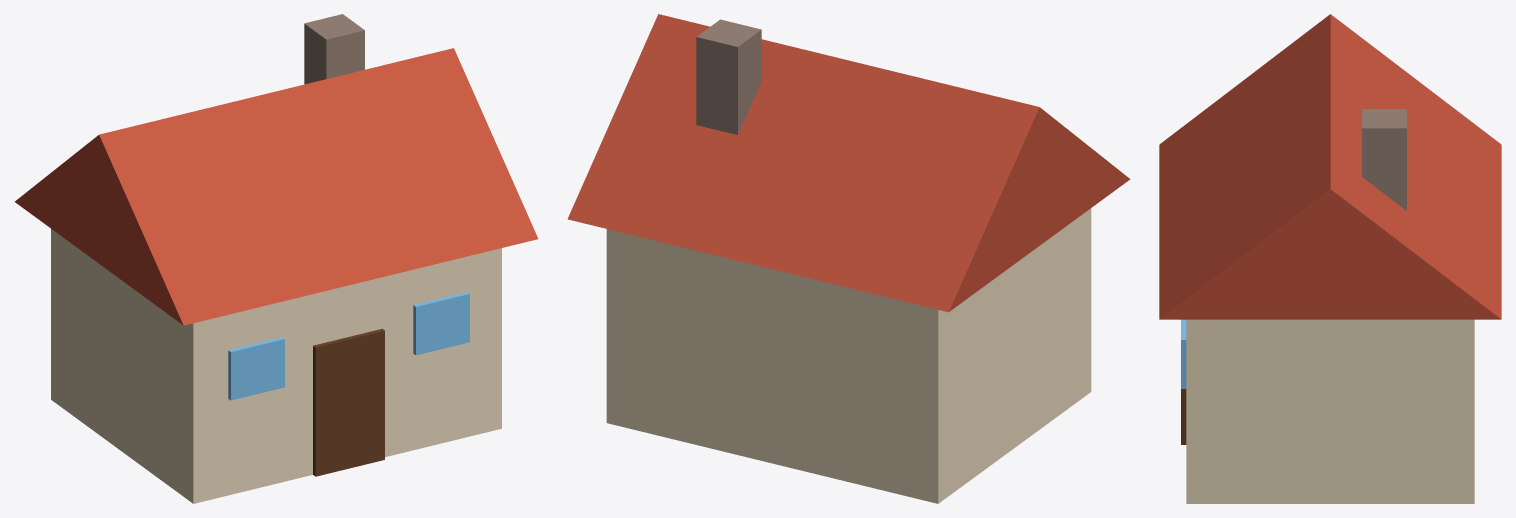
File: casa.glb
The picture shows the model from 3 angles, left to right: view 1: azimuth 30°, elevation 25°; view 2: azimuth 150°, elevation 25°; view 3: azimuth 270°, elevation 25°; orthographic projection. The views are drawn at different scales.
Visible parts, largest first — view 1: corpo; view 2: corpo; view 3: corpo.
Part boxes in pixels (left/top/right/bottom): corpo: left=14, top=14, right=538, bottom=503; corpo: left=567, top=14, right=1130, bottom=503; corpo: left=1159, top=14, right=1501, bottom=503.
Size of the model in its own units: 3.45 by 3.23 by 2.85.
